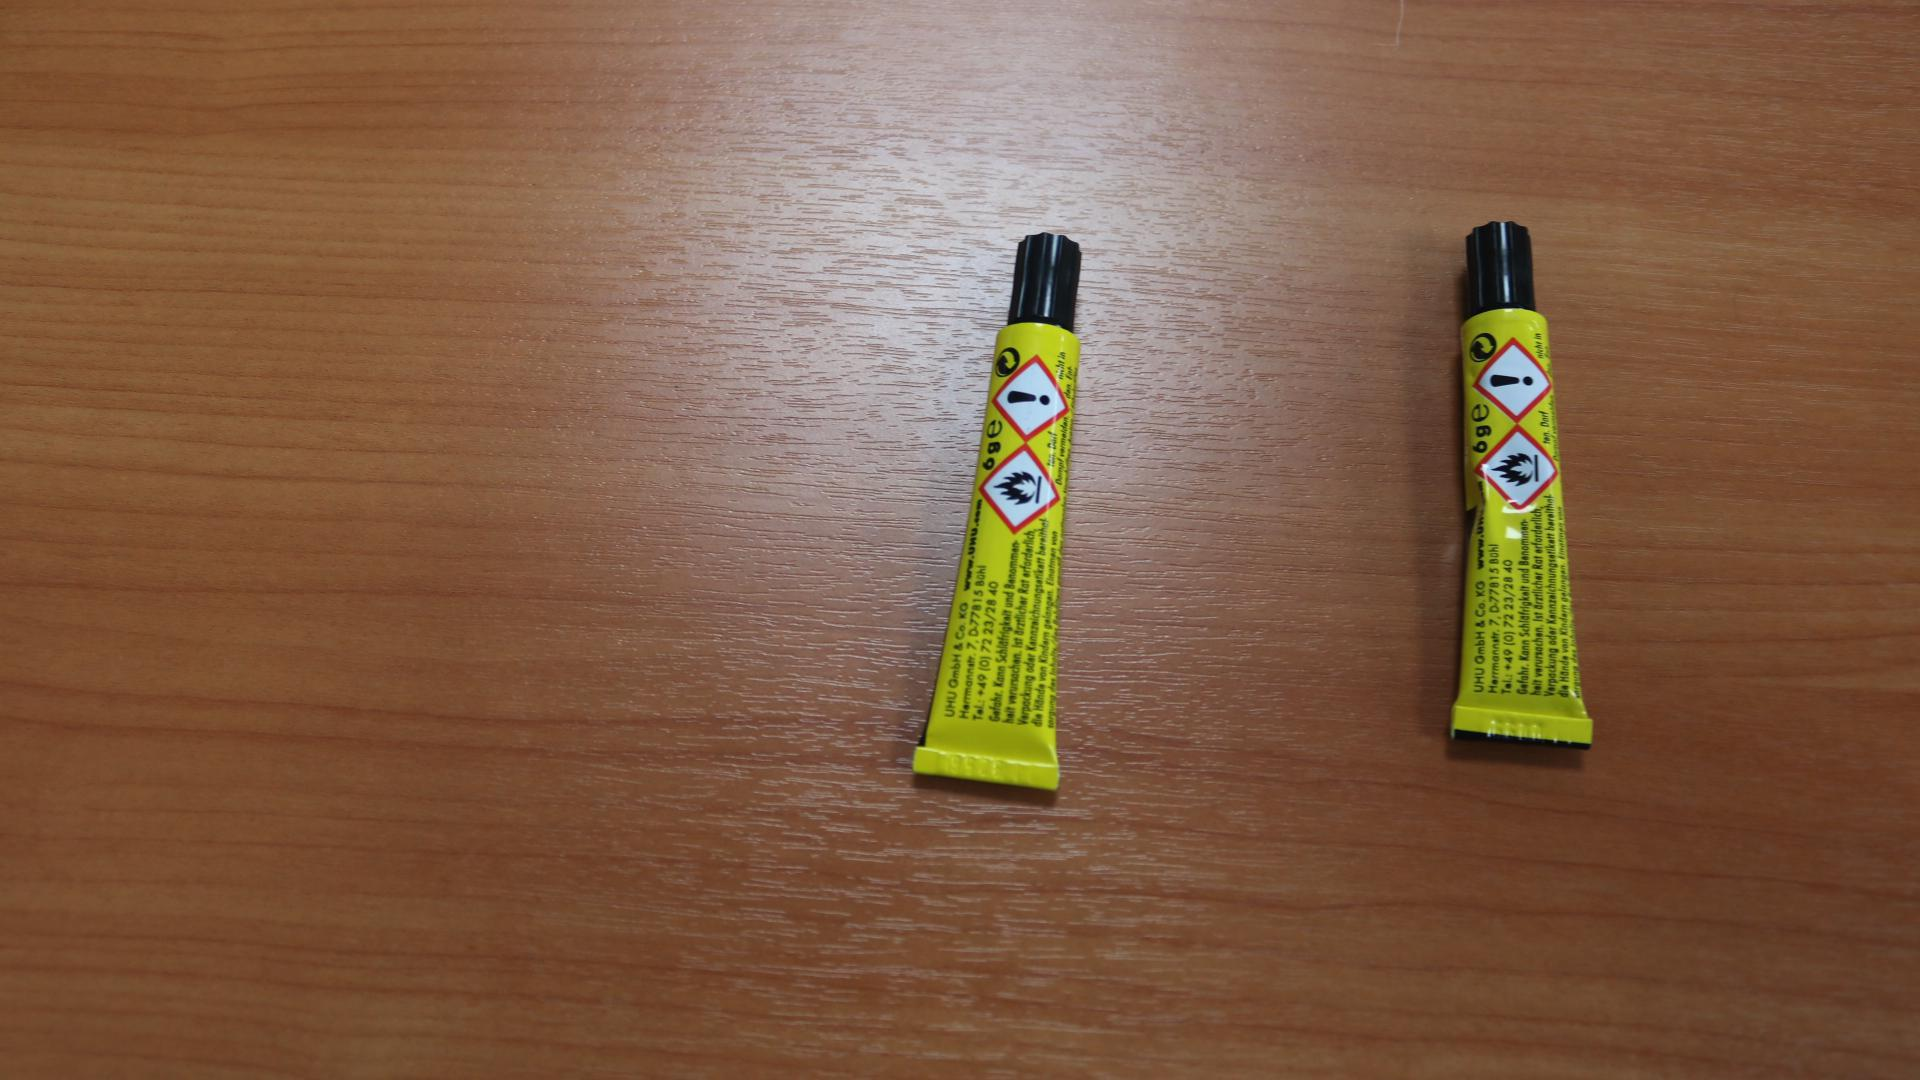Head: (1496, 256, 1512, 274), (1037, 268, 1054, 284)
Tail: (974, 763, 997, 781), (1514, 720, 1534, 739)
Tube: (909, 233, 1081, 791), (1448, 220, 1594, 753)
